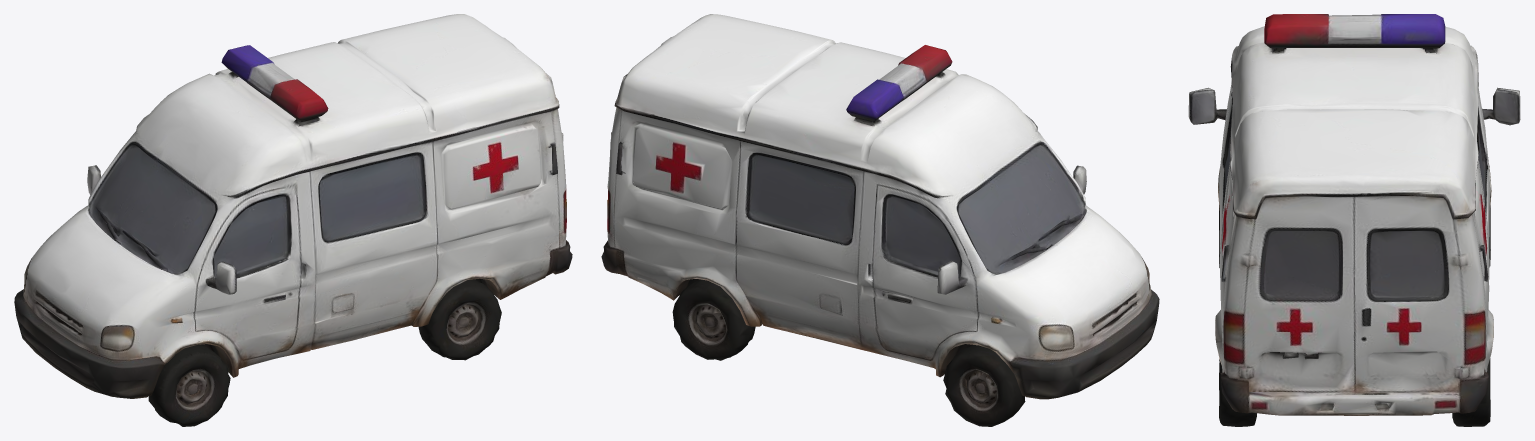
File: ambulance.glb
3 renders of one model, left to right at view 1: azimuth 30°, elevation 25°; view 2: azimuth 150°, elevation 25°; view 3: azimuth 270°, elevation 25°, orthographic. The views are drawn at different scales.
Parts seen in each view (by area): view 1: tripo_node_4c27a030-6b87-4cb0-b325-4cb111945f54; view 2: tripo_node_4c27a030-6b87-4cb0-b325-4cb111945f54; view 3: tripo_node_4c27a030-6b87-4cb0-b325-4cb111945f54.
Part boxes in pixels (x1,y1,x2,y2): tripo_node_4c27a030-6b87-4cb0-b325-4cb111945f54: [14, 14, 572, 426]; tripo_node_4c27a030-6b87-4cb0-b325-4cb111945f54: [601, 14, 1159, 426]; tripo_node_4c27a030-6b87-4cb0-b325-4cb111945f54: [1188, 14, 1520, 426].
Bounding box in the file's own units: 1 × 0.5612 × 0.5166.
Materials: 1 (1 with a texture image).
